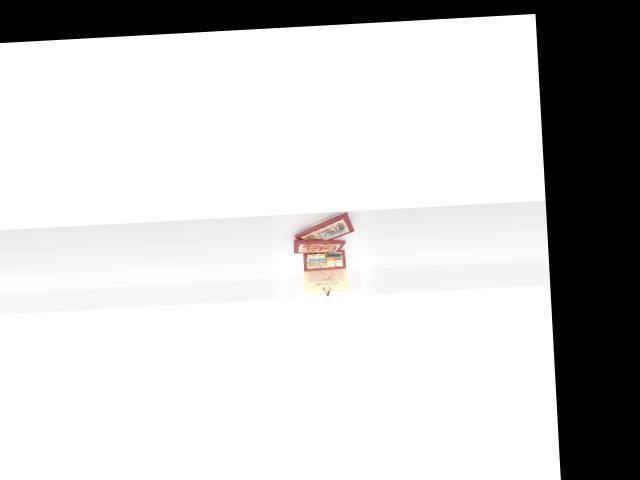chocolate: (289, 206, 367, 246)
